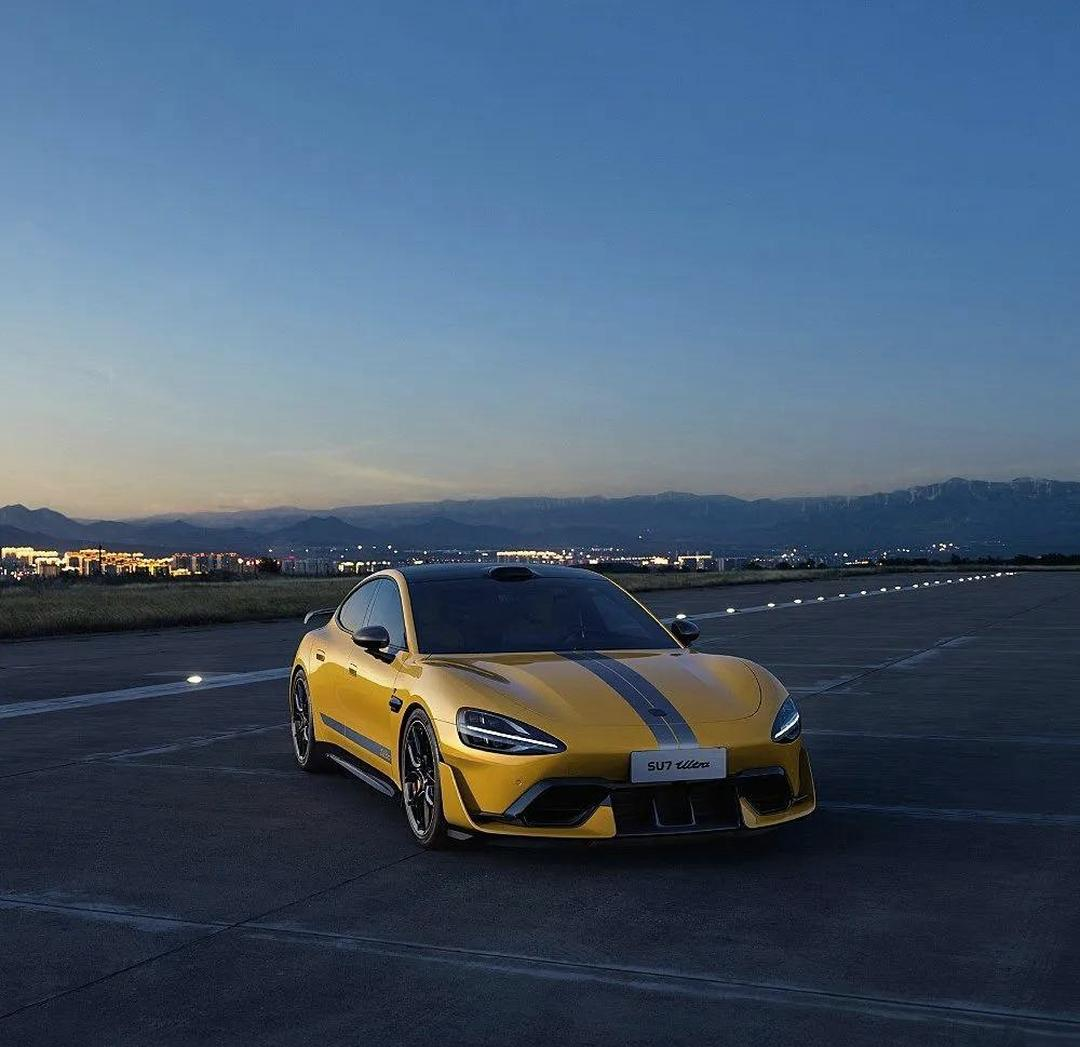su7: (289, 557, 820, 856)
